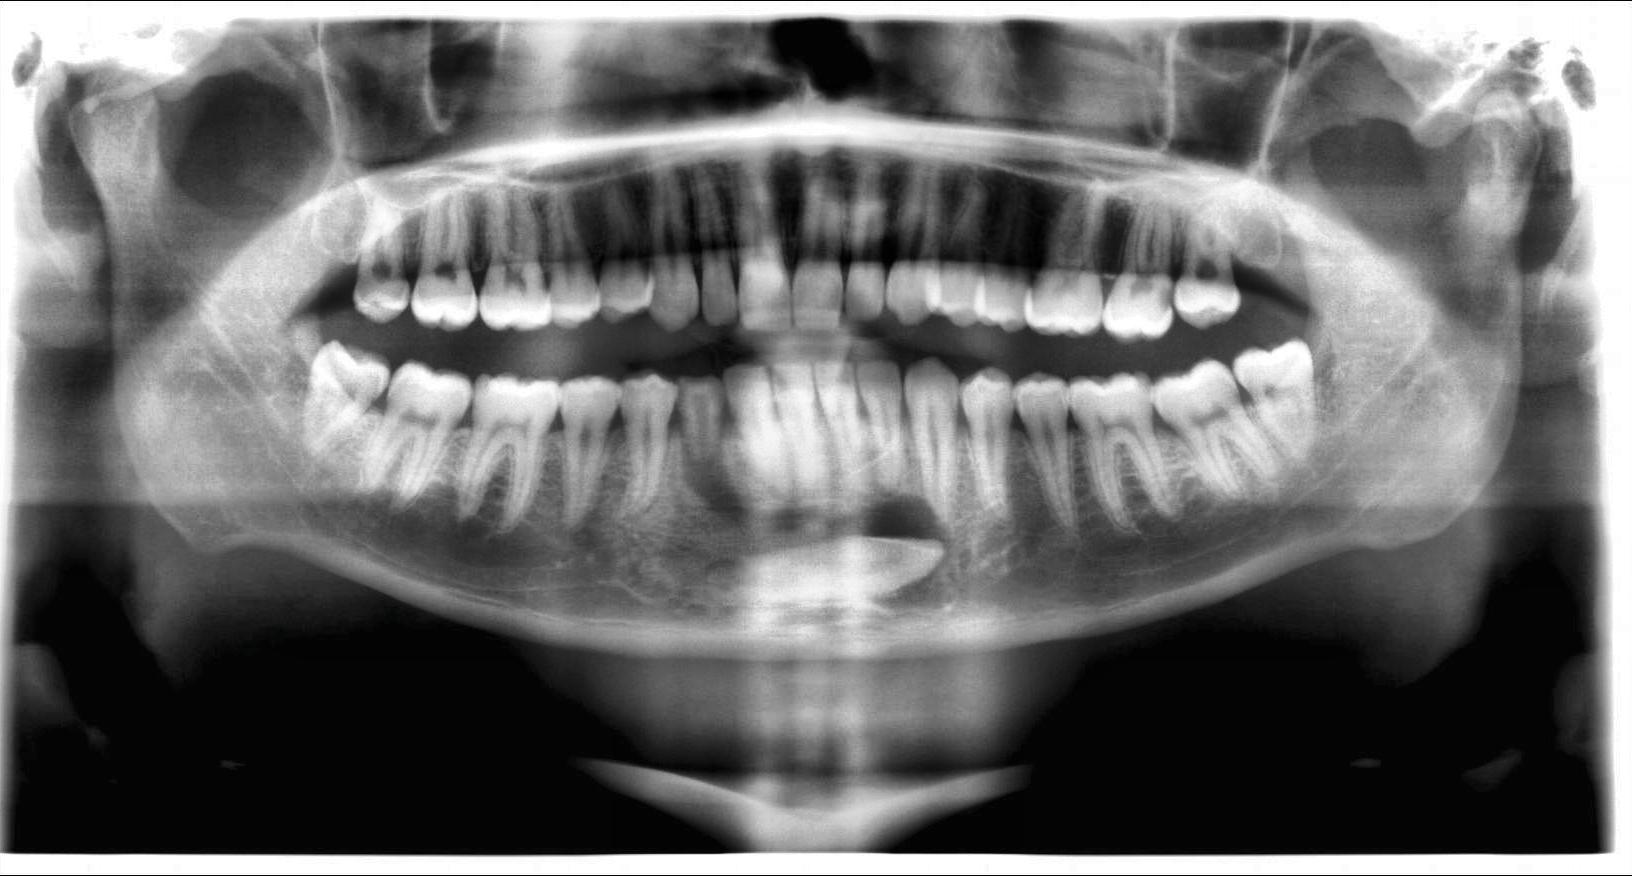dentigeroz: (829, 493, 964, 613)
